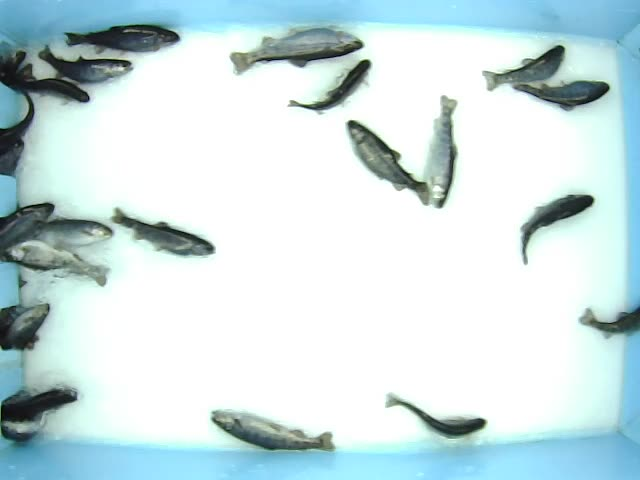fish: (347, 120, 431, 205), (228, 24, 367, 75), (209, 407, 337, 453), (517, 191, 593, 267), (109, 205, 217, 256), (286, 55, 372, 115), (6, 238, 108, 287), (384, 391, 487, 437), (421, 93, 459, 209), (35, 40, 134, 83), (481, 43, 564, 92), (61, 25, 184, 55), (511, 79, 610, 113), (16, 72, 93, 106)
